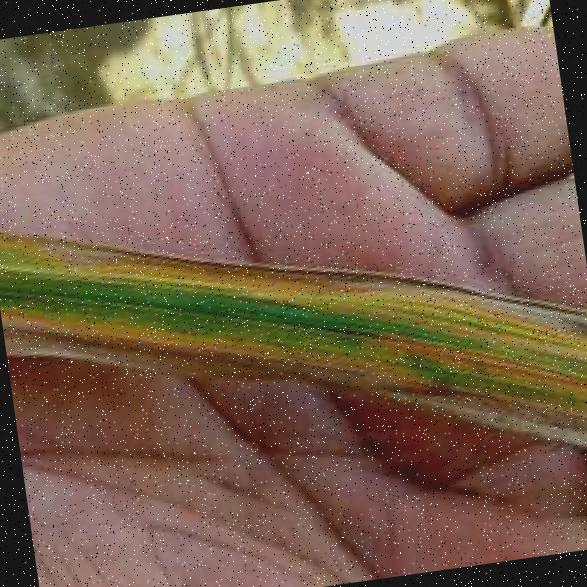Bacteria_Leaf_Blight: (33, 147, 528, 478)
